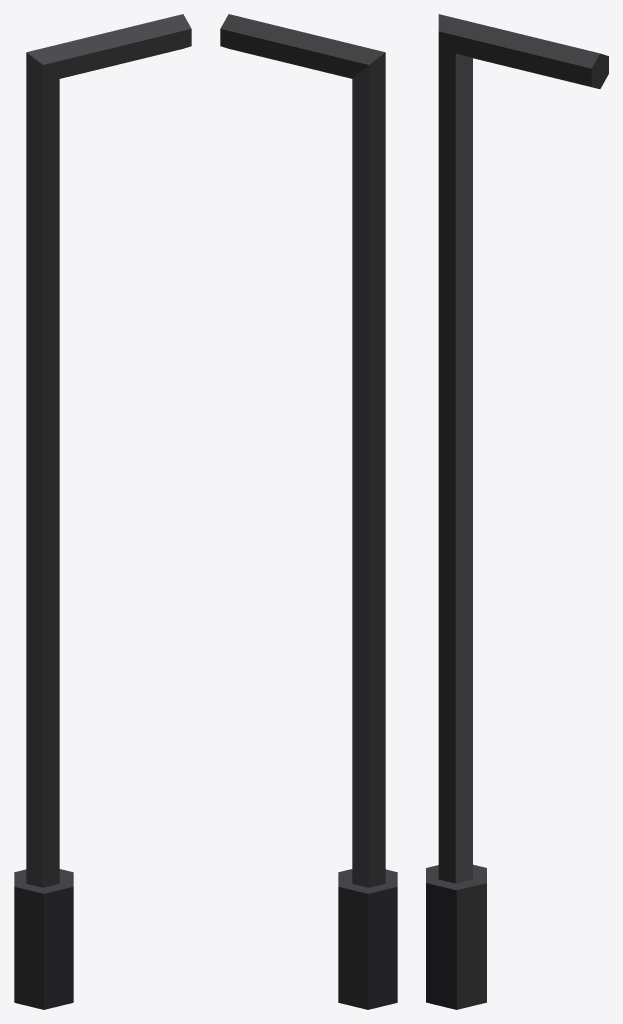
The model's file is TB_CITY_Prop_Sign_Base_B.FBX.
3 views of the same model, side by side, from view 1: azimuth 30°, elevation 25°; view 2: azimuth 150°, elevation 25°; view 3: azimuth 330°, elevation 25° (orthographic). The views are drawn at different scales.
Visible parts, largest first — view 1: TB_CITY_Prop_Sign_Base_B; view 2: TB_CITY_Prop_Sign_Base_B; view 3: TB_CITY_Prop_Sign_Base_B.
Boxes of the visible parts, x1,y1,x2,y2 form: TB_CITY_Prop_Sign_Base_B: [14, 14, 191, 1009]; TB_CITY_Prop_Sign_Base_B: [220, 14, 397, 1009]; TB_CITY_Prop_Sign_Base_B: [426, 14, 608, 1009].
Bounding box in the file's own units: 0.9189 × 4.92 × 0.2787.
